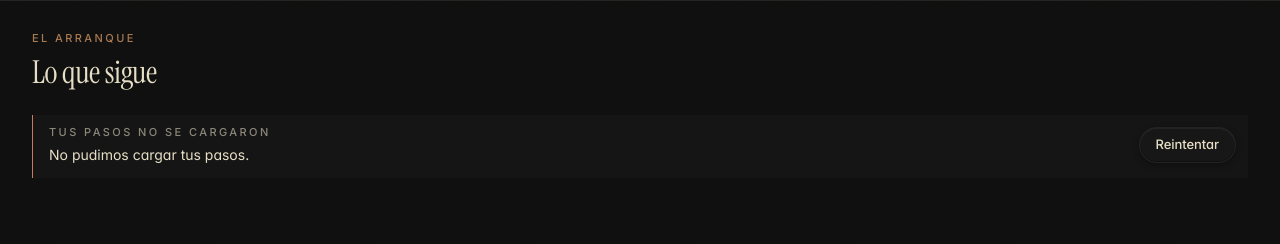
Test case: ArranqueSection — the steps the coach and the person agreed on › offers a retry when the list cannot be loaded
The width and height of the screenshot is (1280, 244).
Expected: the text "No pudimos cargar tus pasos." is shown, [49,146,249,163]
Click the button "Reintentar" at (1187, 145), box [1138,127,1236,163]
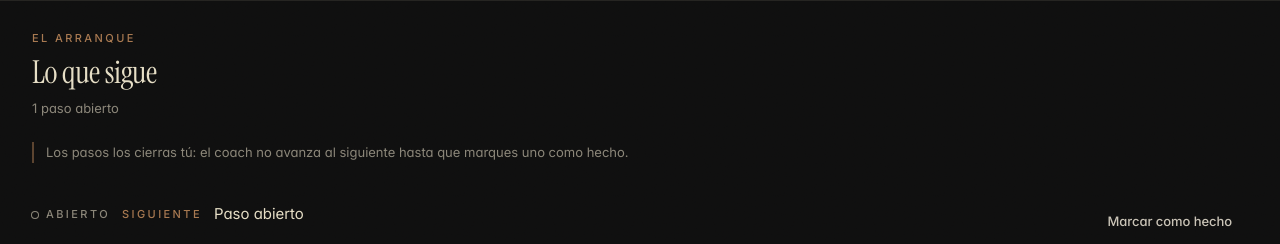
Result: the text "Paso abierto" is shown at [214,203,304,226]
